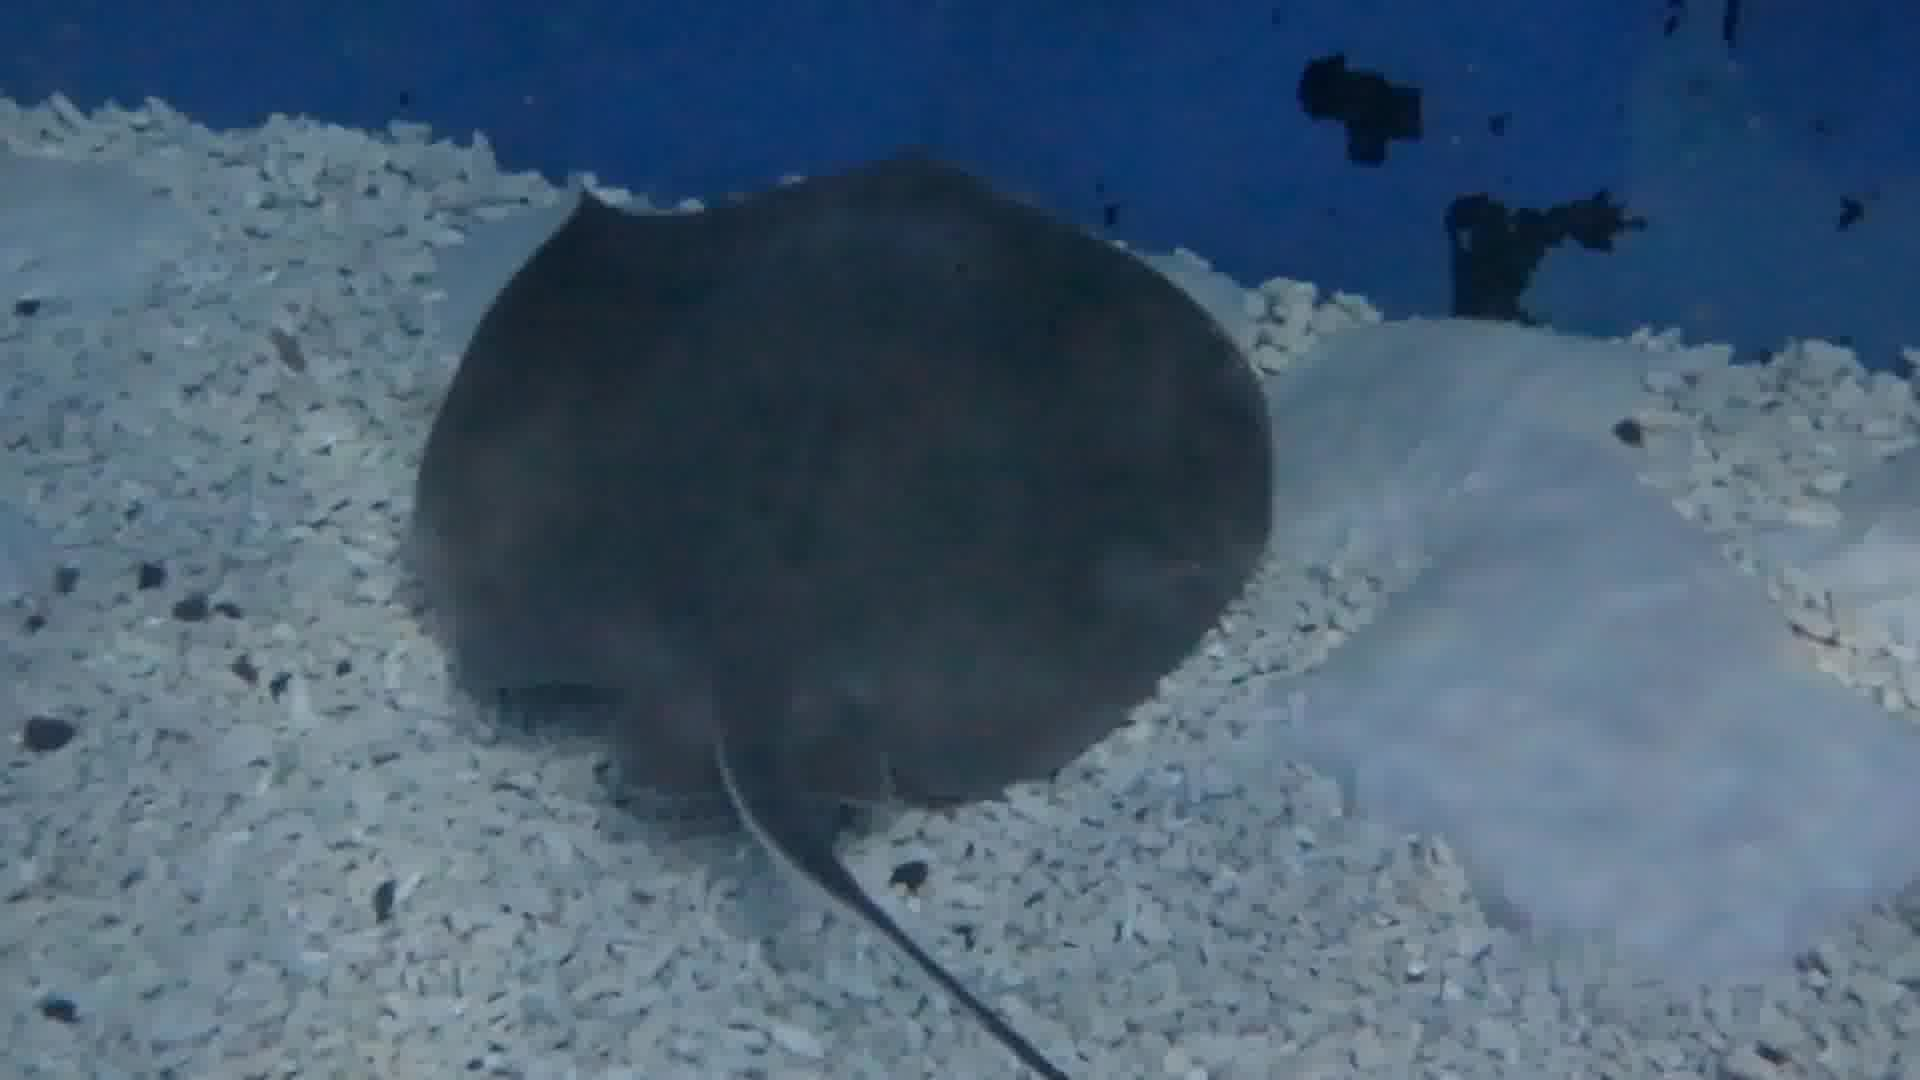Dasyatis bennetti: (322, 87, 1361, 916)
